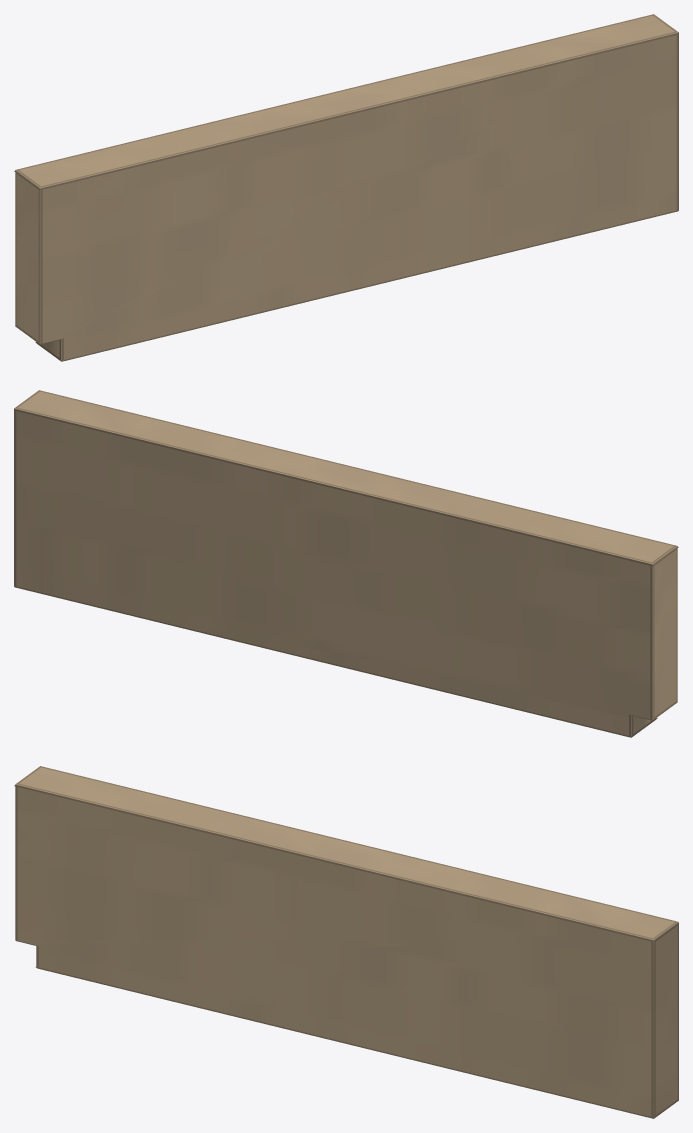
3 views of the same model, one above another, from view 1: azimuth 30°, elevation 25°; view 2: azimuth 150°, elevation 25°; view 3: azimuth 330°, elevation 25° (orthographic).
Parts seen in each view (by area): view 1: part-b; view 2: part-b; view 3: part-b.
Boxes of the visible parts, x1,y1,x2,y2 form: part-b: (14,14,678,361); part-b: (14,390,678,737); part-b: (14,766,678,1118).
Size of the model in its own units: 0.4514 by 0.1208 by 0.0308.
